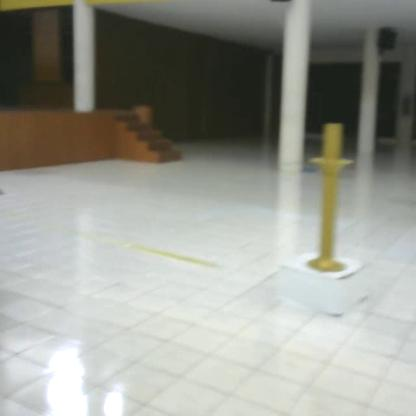pole: (301, 117, 362, 278)
